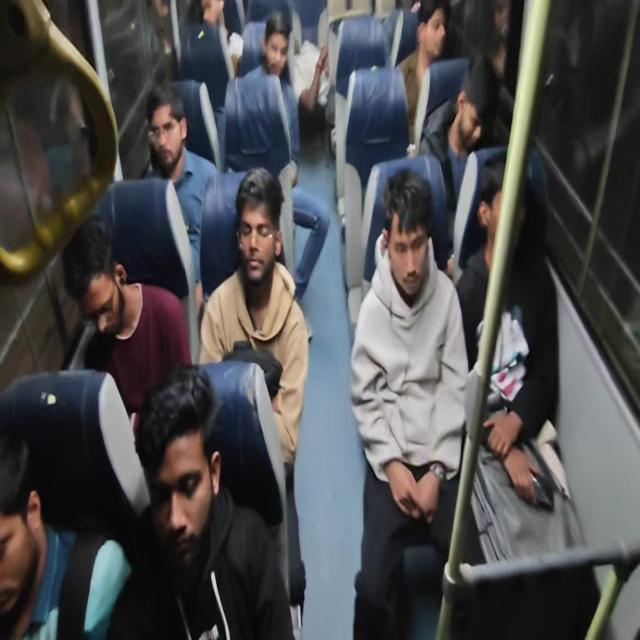person: (350, 167, 470, 638), (106, 364, 295, 639), (198, 166, 310, 629), (455, 161, 559, 510), (226, 12, 330, 302), (0, 428, 132, 639), (62, 214, 192, 424), (141, 83, 218, 296), (418, 52, 500, 209), (396, 0, 450, 154), (181, 0, 238, 110)
